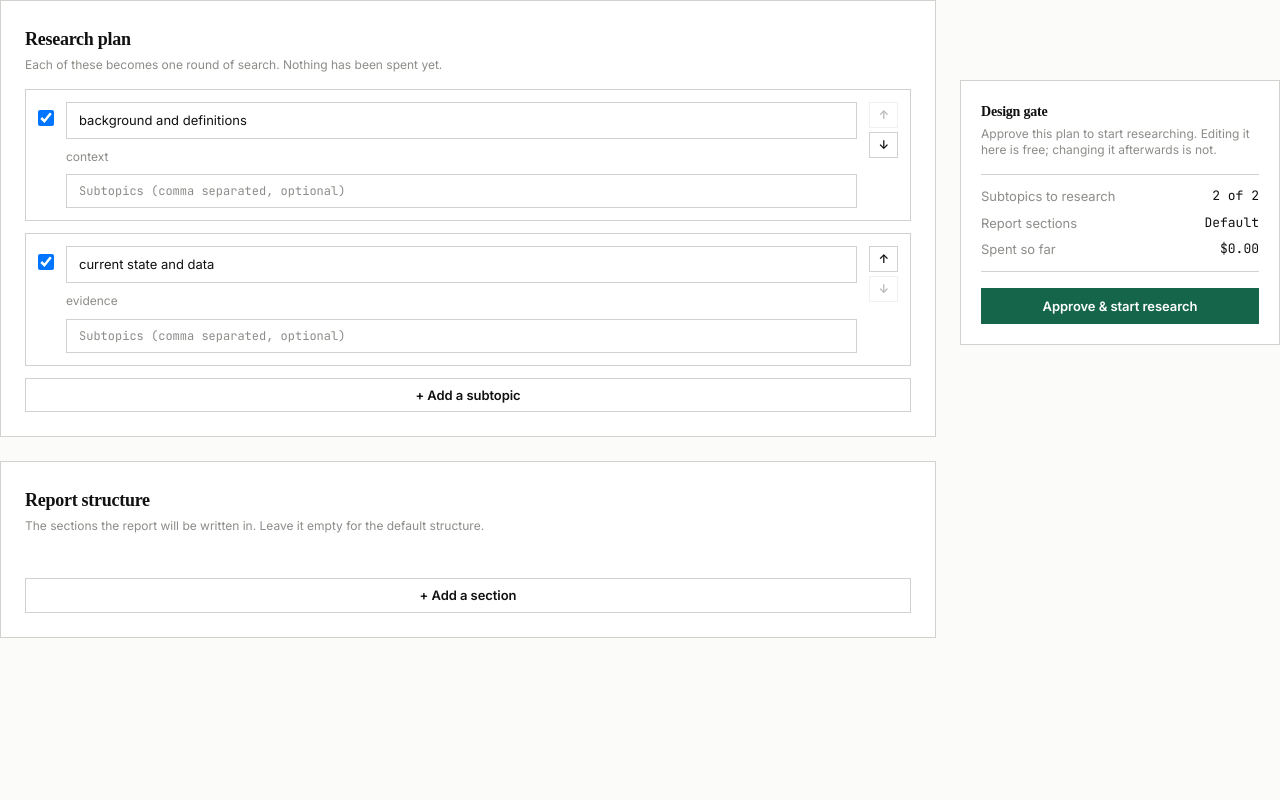
Scenario: PlanGate › refuses to submit an empty plan, and says why
The image size is (1280, 800).
Expected: the 1st field showing "background and definitions" is shown, [66,102,858,139]
Click the 1st checkbox named "include “background and definitions”".
click(46, 118)  # box [38,110,54,126]
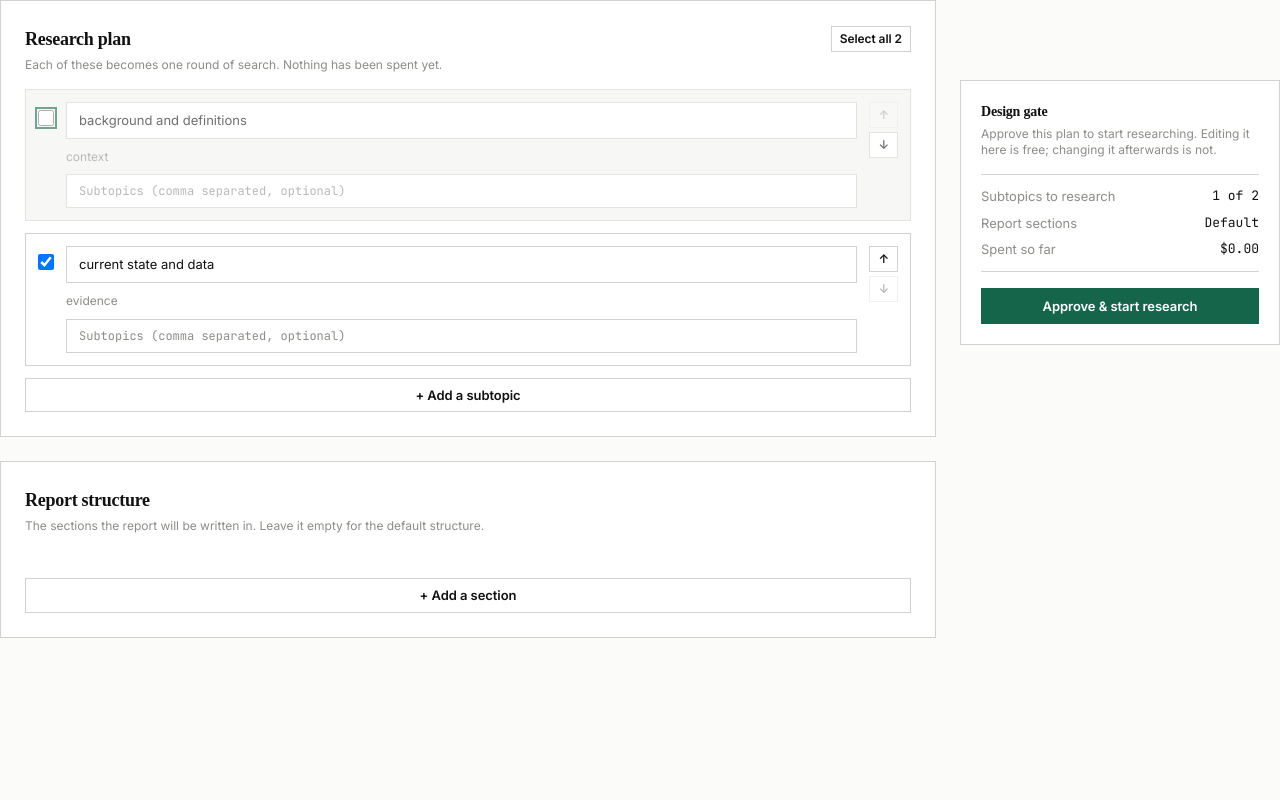
Click the 2nd checkbox named "include “current state and data”".
click(46, 262)  # box [38,254,54,270]
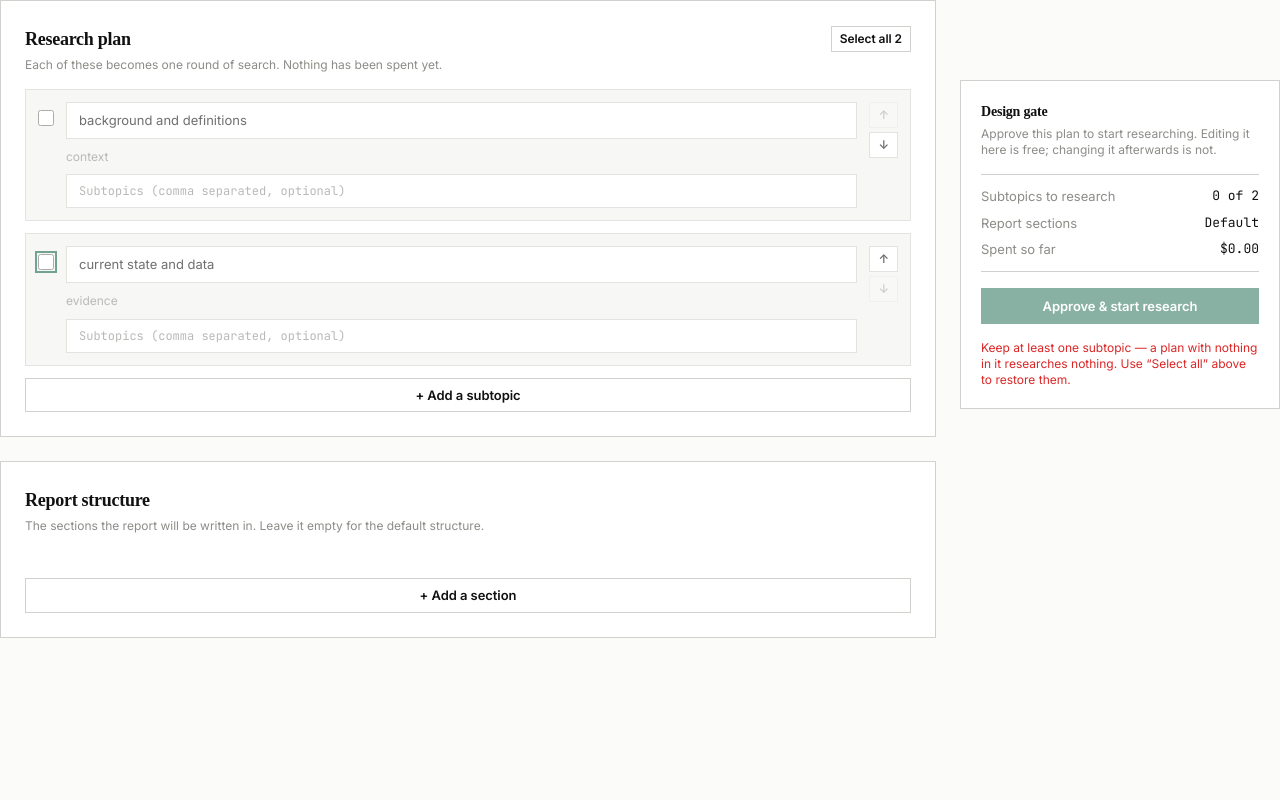
Result: the button "Approve & start research" is disabled at [981,288,1259,324]
Result: the message shows "at least one subtopic" at [981,340,1257,387]
